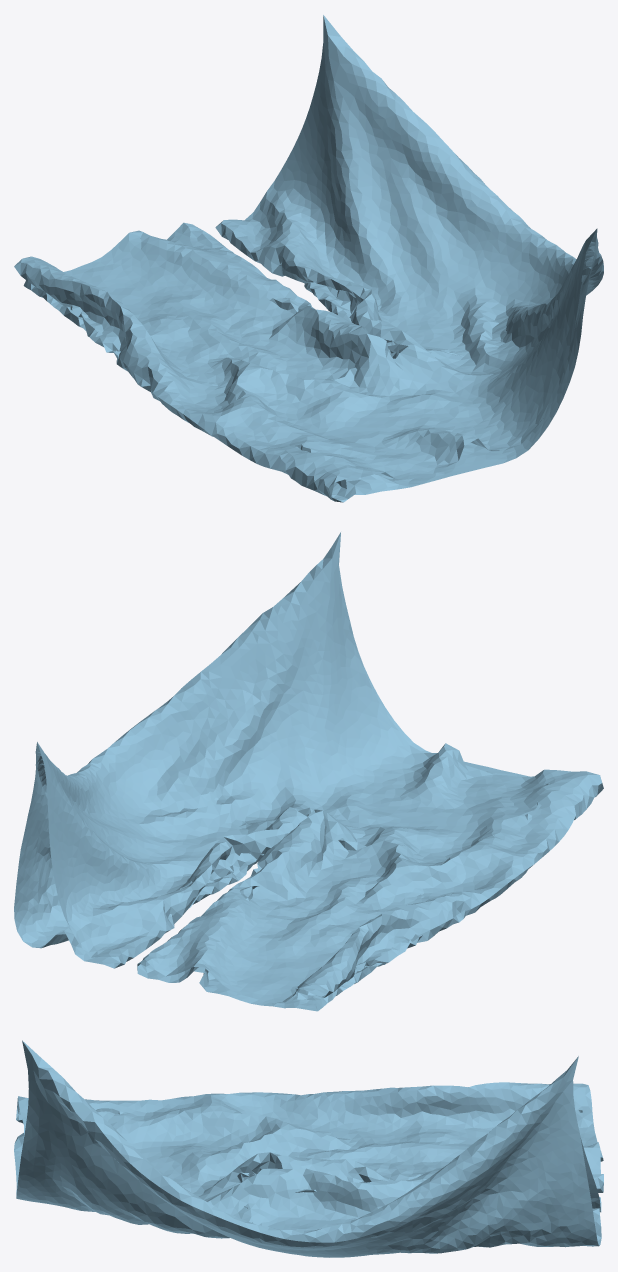
The model's file is frame_07.glb.
The picture shows the model from 3 angles, top to bottom: view 1: azimuth 30°, elevation 25°; view 2: azimuth 150°, elevation 25°; view 3: azimuth 270°, elevation 25°; orthographic projection. The views are drawn at different scales.
Parts seen in each view (by area): view 1: frame_07.obj; view 2: frame_07.obj; view 3: frame_07.obj.
Boxes of the visible parts, box(x1,y1,x2,y2) form: frame_07.obj: box(14, 15, 603, 502); frame_07.obj: box(14, 532, 603, 1011); frame_07.obj: box(14, 1040, 603, 1257).
Bounding box in the file's own units: 1.21 × 0.61 × 1.6.
